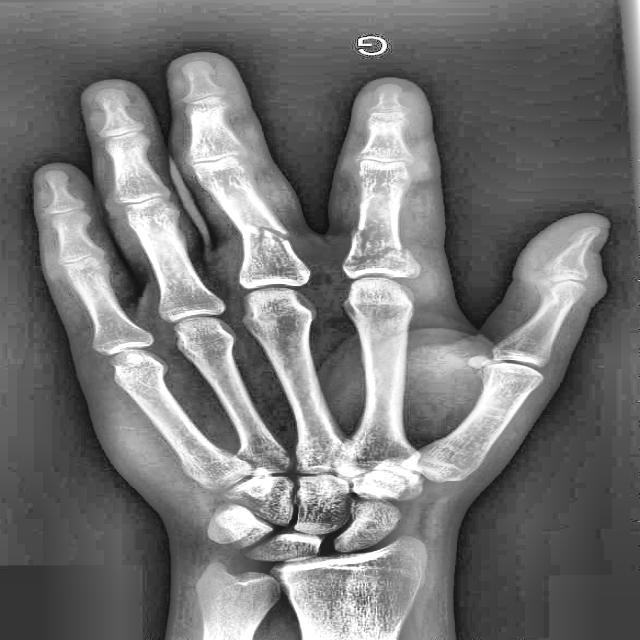fracture: (345, 224, 412, 264), (236, 222, 292, 245)
